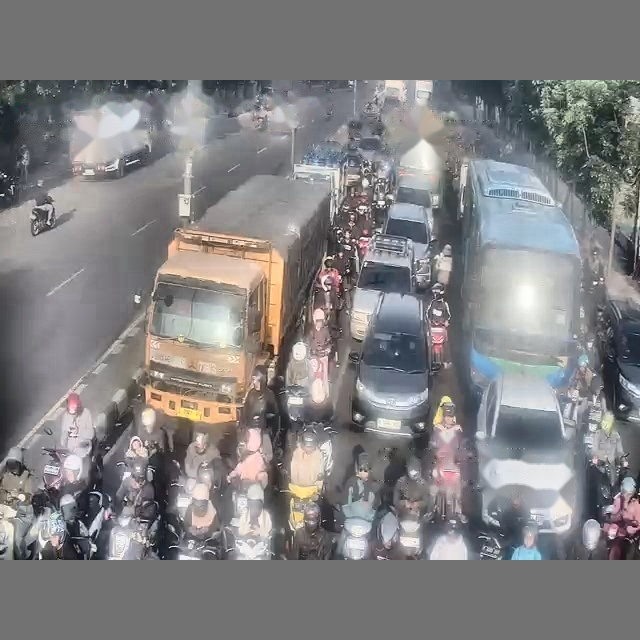Bis: (459, 159, 581, 396)
Mobil: (475, 370, 580, 534), (349, 293, 432, 437), (350, 234, 415, 340), (598, 300, 639, 421), (383, 202, 435, 287), (358, 136, 385, 161), (345, 151, 362, 186)
Motor: (430, 321, 447, 369), (30, 207, 55, 236)
Truk: (144, 175, 330, 424), (69, 108, 155, 179), (395, 140, 445, 209), (383, 80, 407, 105), (414, 80, 432, 106)
